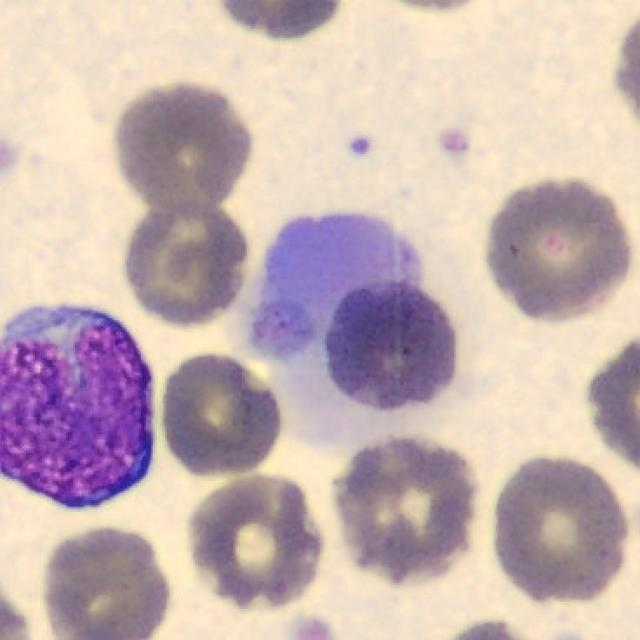Monocito: (0, 306, 155, 510)
